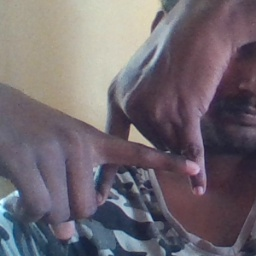H: (82, 103, 216, 220)
